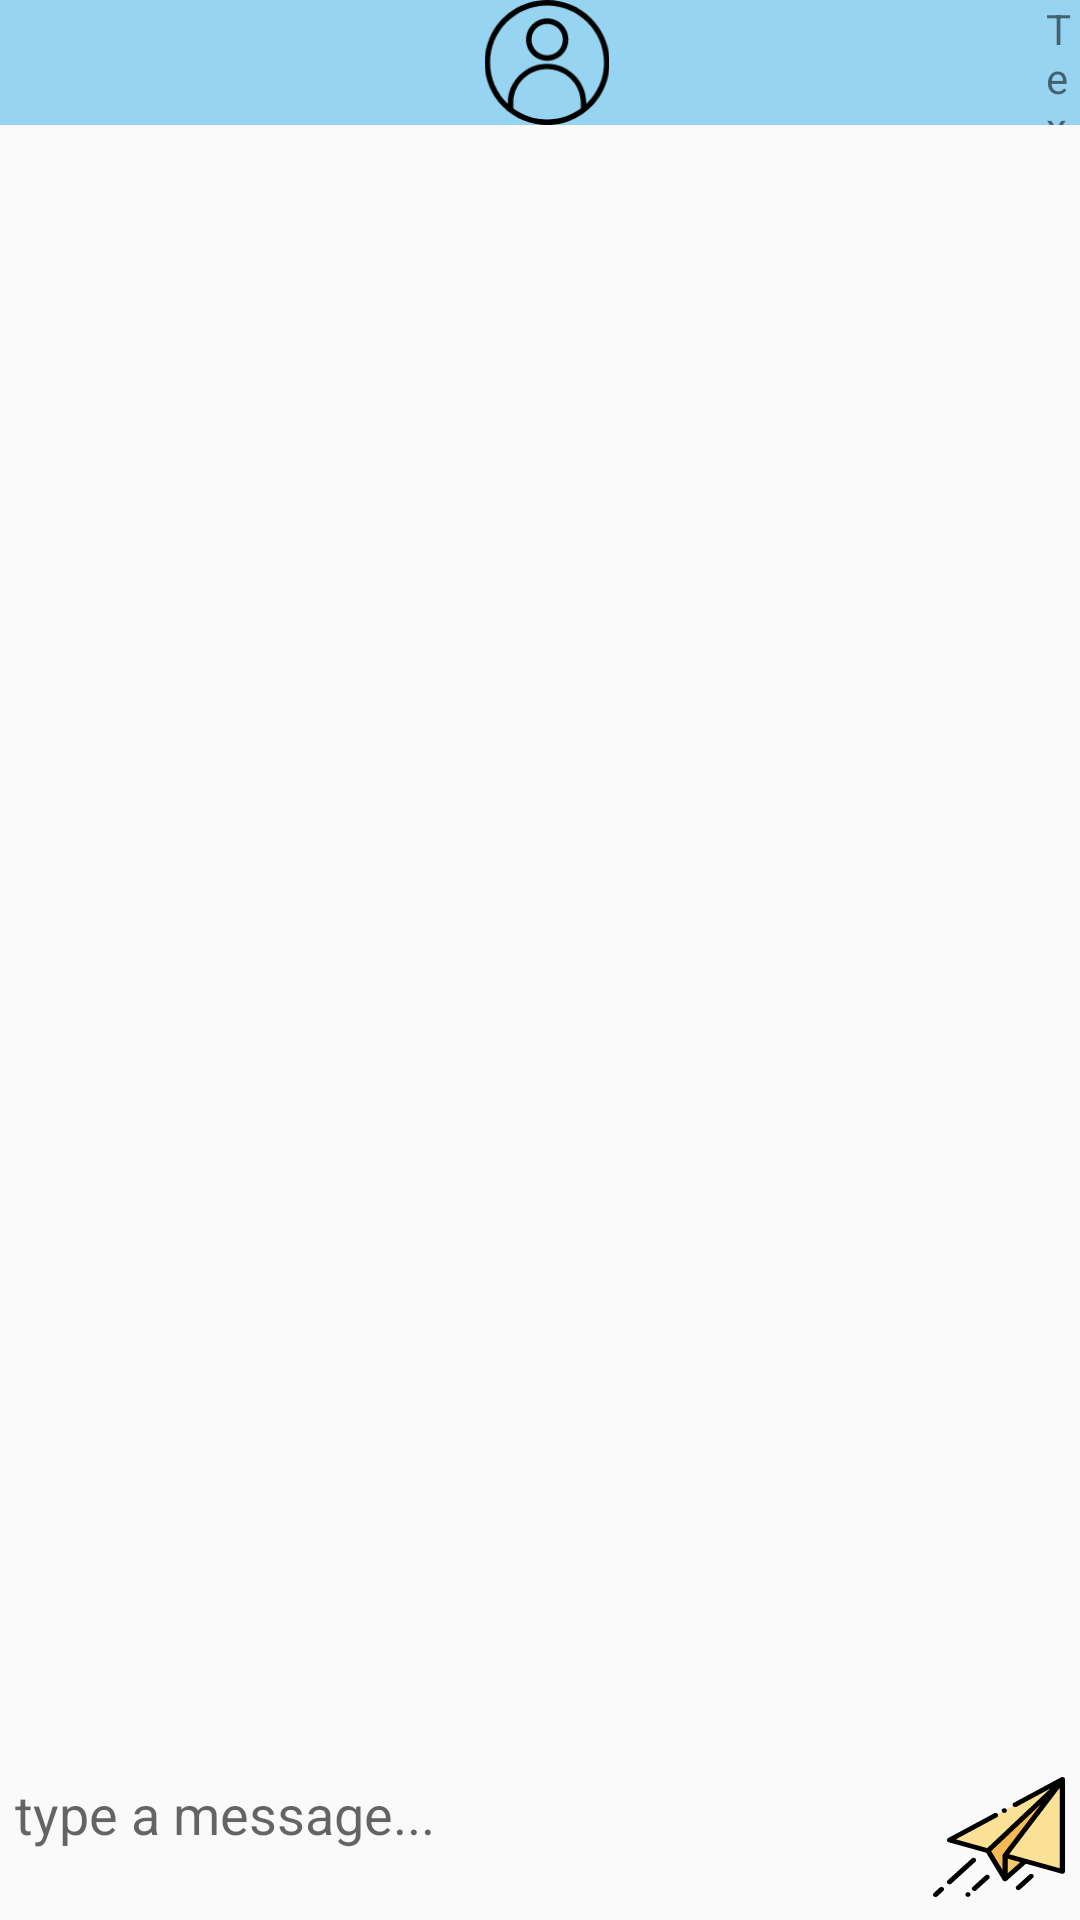

Icons on this 1080 × 1920 Android screen, each with its box as (x1, y1, x2, y2):
paper plane: (933, 1777, 1065, 1897)
